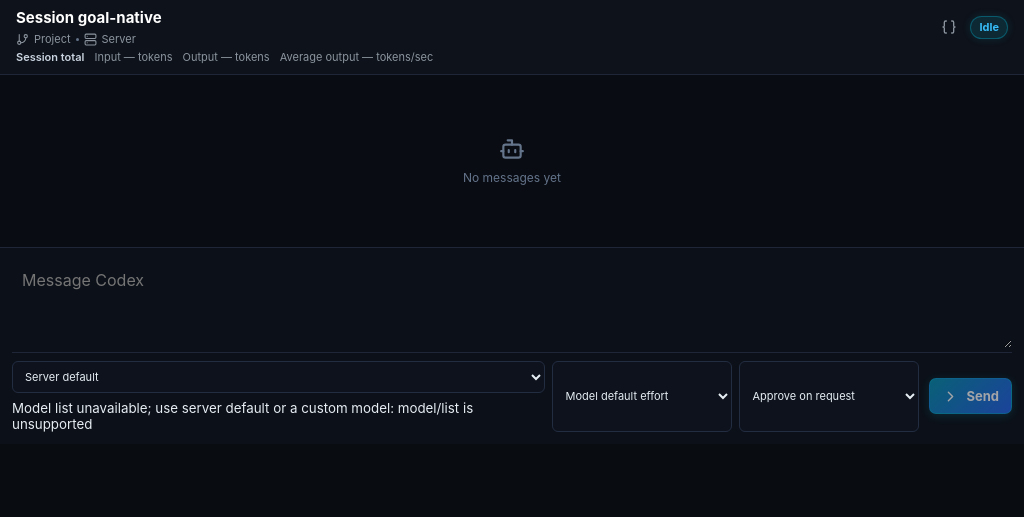
Scenario: starts the first turn after a new goal is persisted
The width and height of the screenshot is (1024, 517).
Type "/goal" into the text box with placeholder "Message Codex" at (512, 304), box [12,260,1012,348]
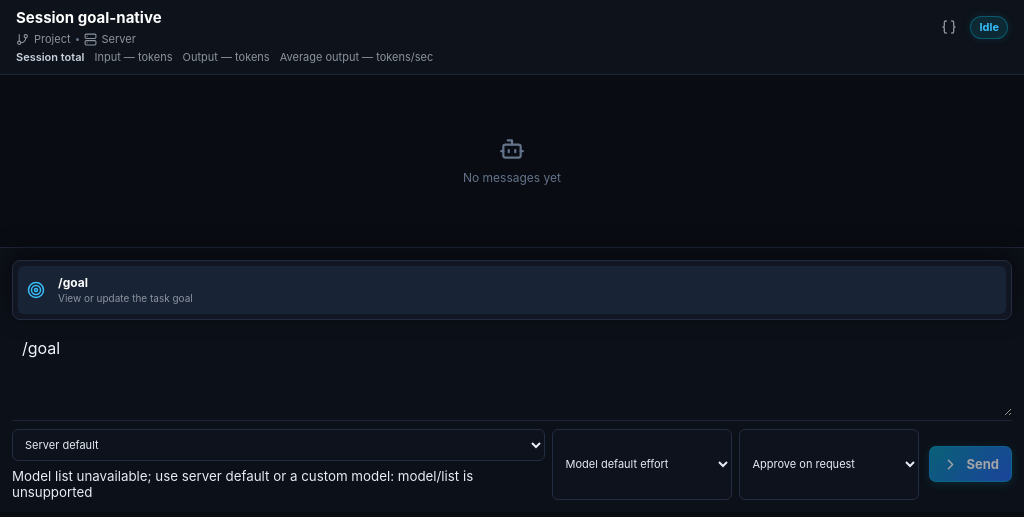
Click the option "/goal View or update the task goal" at (125, 298), box [18,266,1006,314]
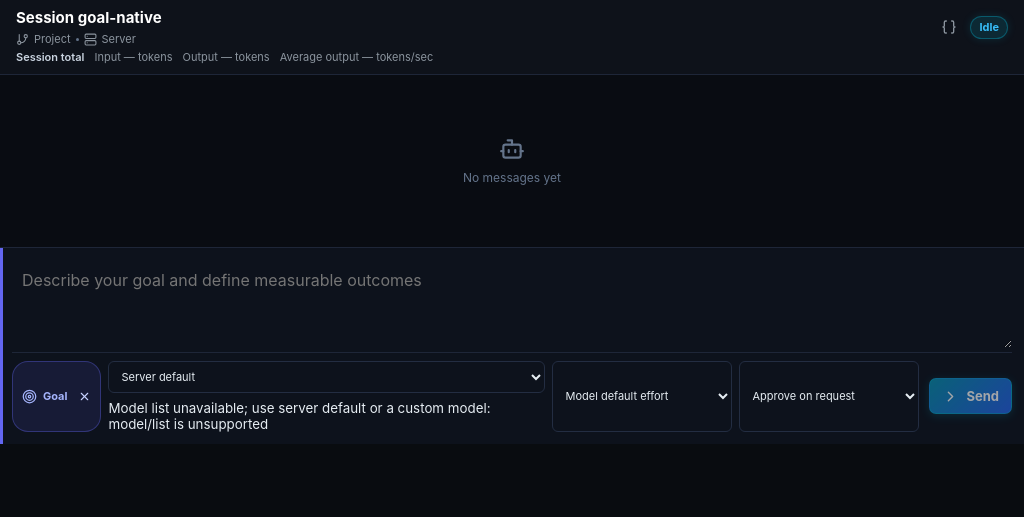
Expected: the text "Goal" is shown, [12,361,102,432]
Expected: the option "task goal" is gone
Type "Ship the release" into the text box with placeholder "Describe your goal and define measurable outcomes" at (512, 304), box [12,260,1012,348]
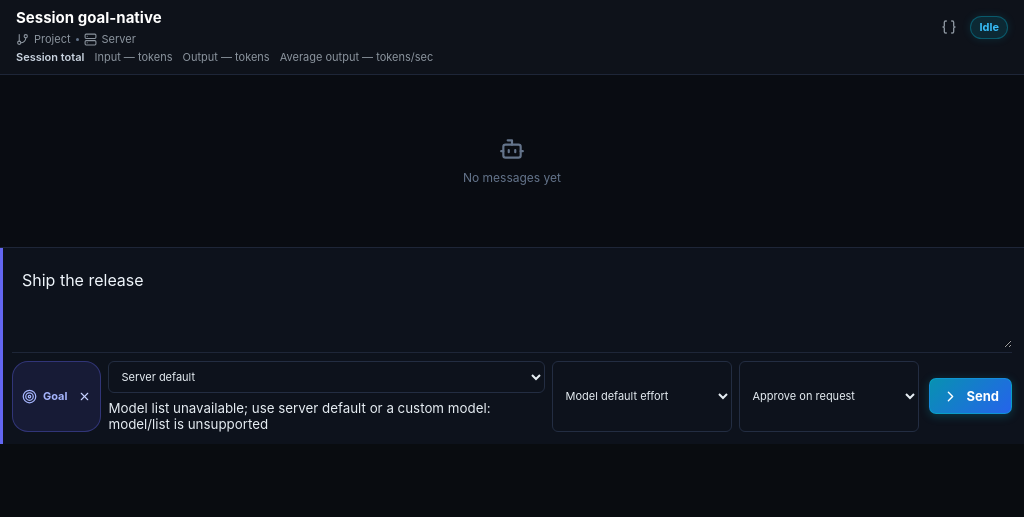
Expected: the button "Send" is enabled
Click the button "Send" at (971, 396), box [930,378,1012,414]
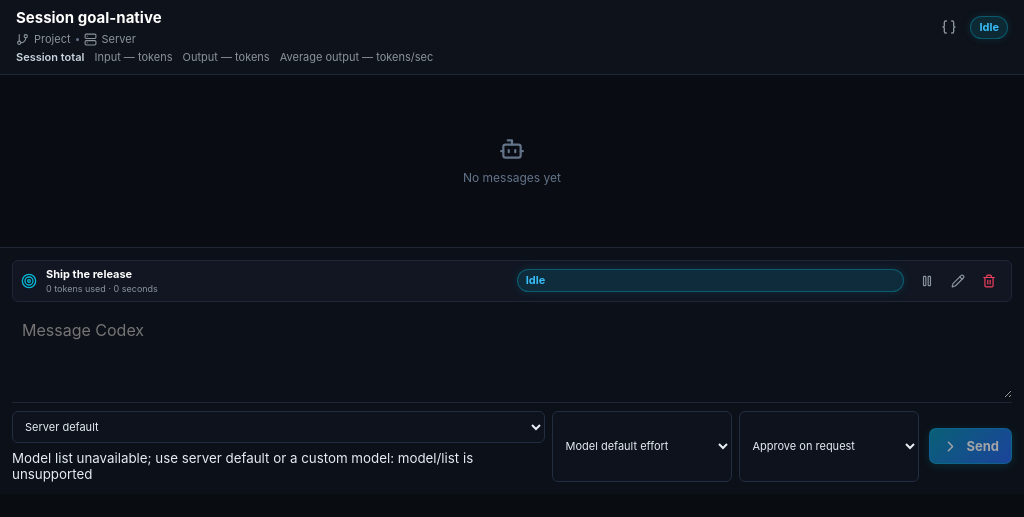
Expected: the text box with placeholder "Message Codex" is shown, [12,310,1012,398]
Expected: the text "Ship the release" is shown, [46,267,132,281]
